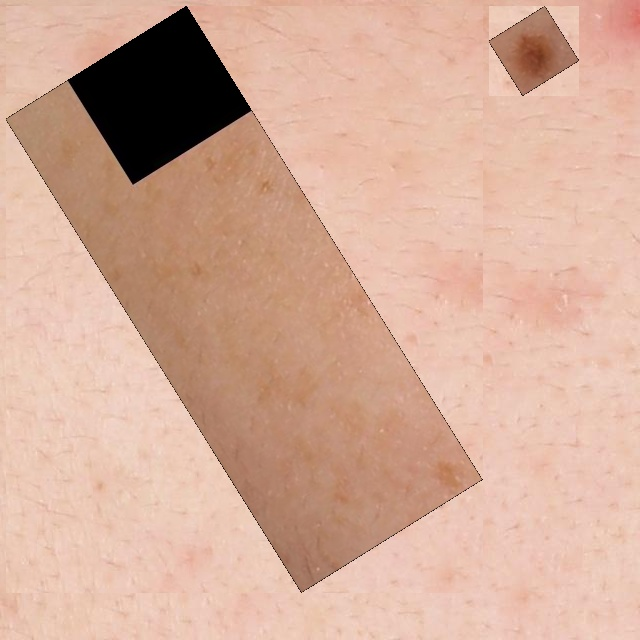nevus: (500, 17, 568, 84)
